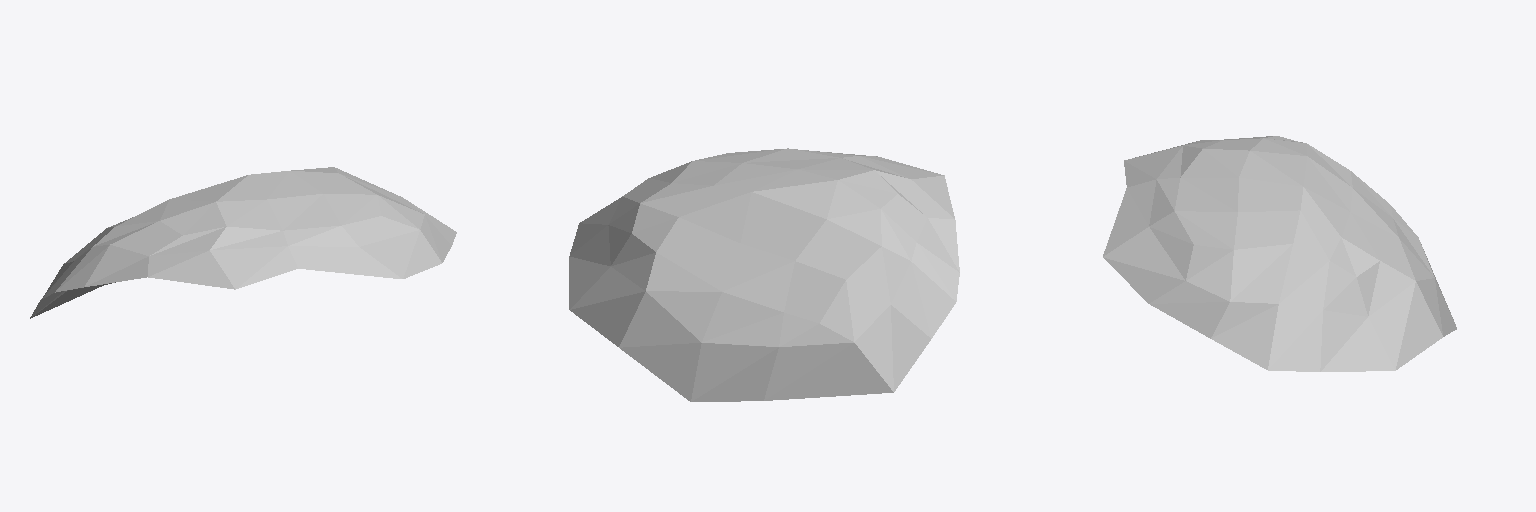
File: Tree Top Large 4.obj
The picture shows the model from 3 angles: view 1: azimuth 30°, elevation 25°; view 2: azimuth 150°, elevation 25°; view 3: azimuth 270°, elevation 25°; orthographic projection.
Bounding box in the file's own units: 2695 × 1037 × 2125.